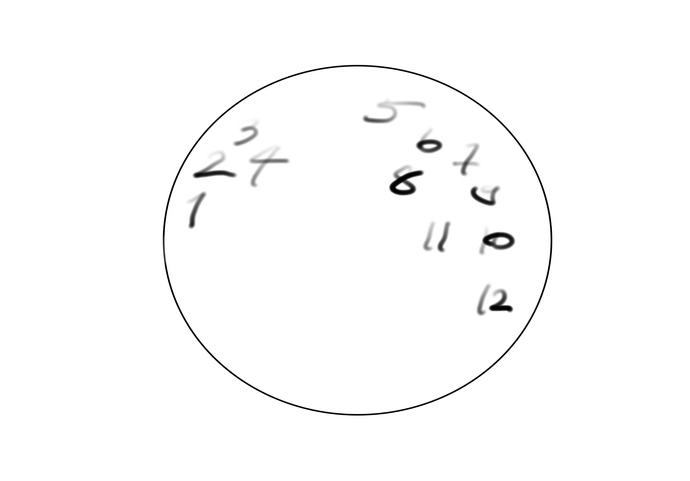eight: (390, 160, 424, 199)
eleven: (423, 213, 454, 252)
five: (368, 92, 423, 125)
four: (251, 144, 292, 188)
one: (184, 190, 210, 230)
seven: (453, 136, 482, 177)
six: (416, 124, 444, 155)
ten: (480, 224, 516, 259), (468, 180, 503, 208)
three: (236, 116, 260, 147)
twelve: (475, 277, 517, 320)
two: (197, 150, 239, 180)
